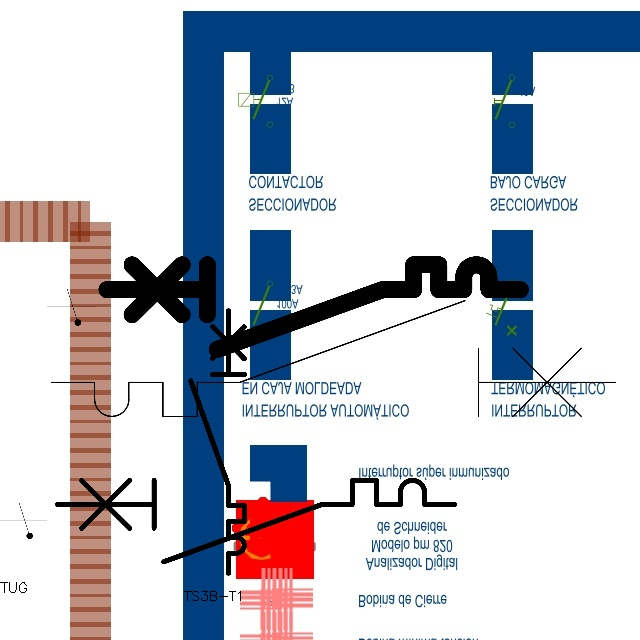interruptor_termomagnetico: (37, 286, 630, 431), (96, 254, 531, 360), (47, 470, 465, 572), (184, 304, 251, 580)
